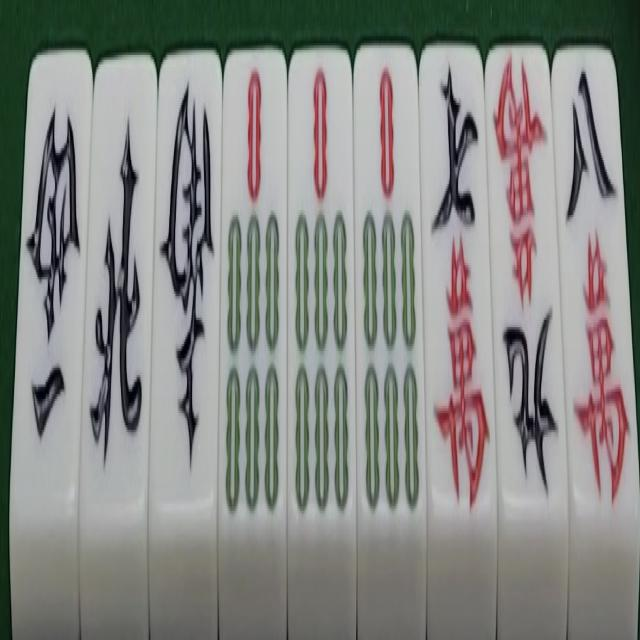m7: (428, 58, 487, 506)
m8: (562, 63, 630, 505)
m9: (492, 47, 560, 497)
north: (90, 56, 152, 485)
s7: (224, 48, 284, 538), (290, 43, 351, 516), (359, 58, 420, 516)
south: (158, 65, 219, 497)
west: (22, 69, 84, 470)
